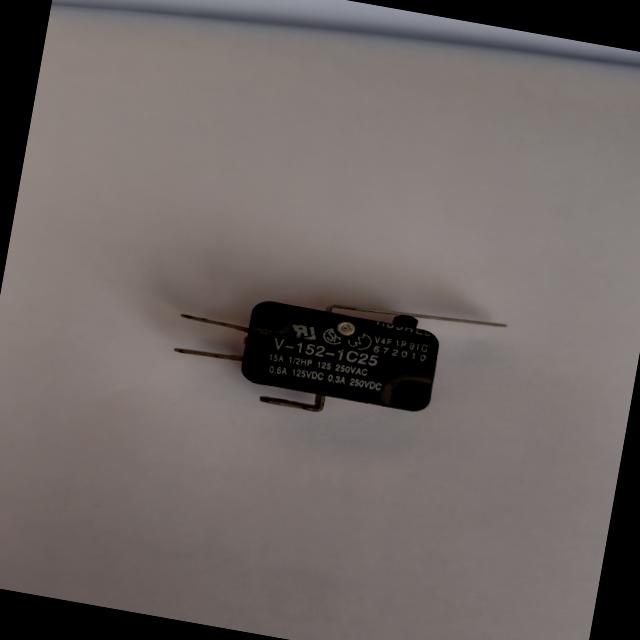switch: (151, 254, 525, 459)
